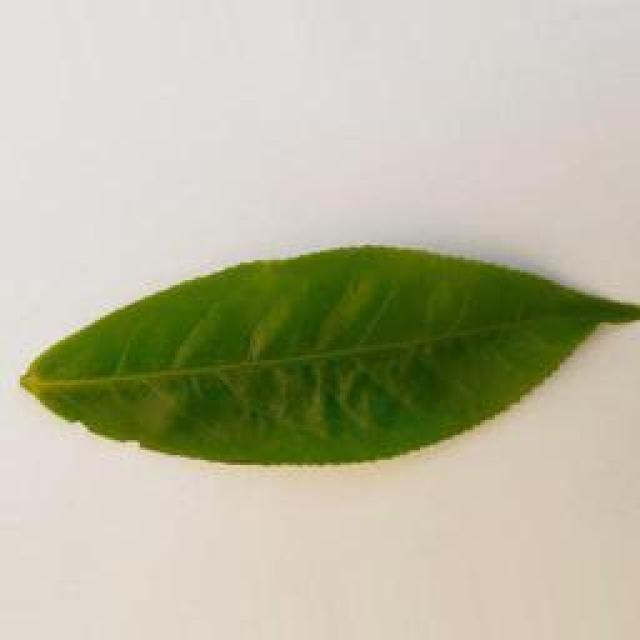Healthy: (10, 237, 640, 485)
